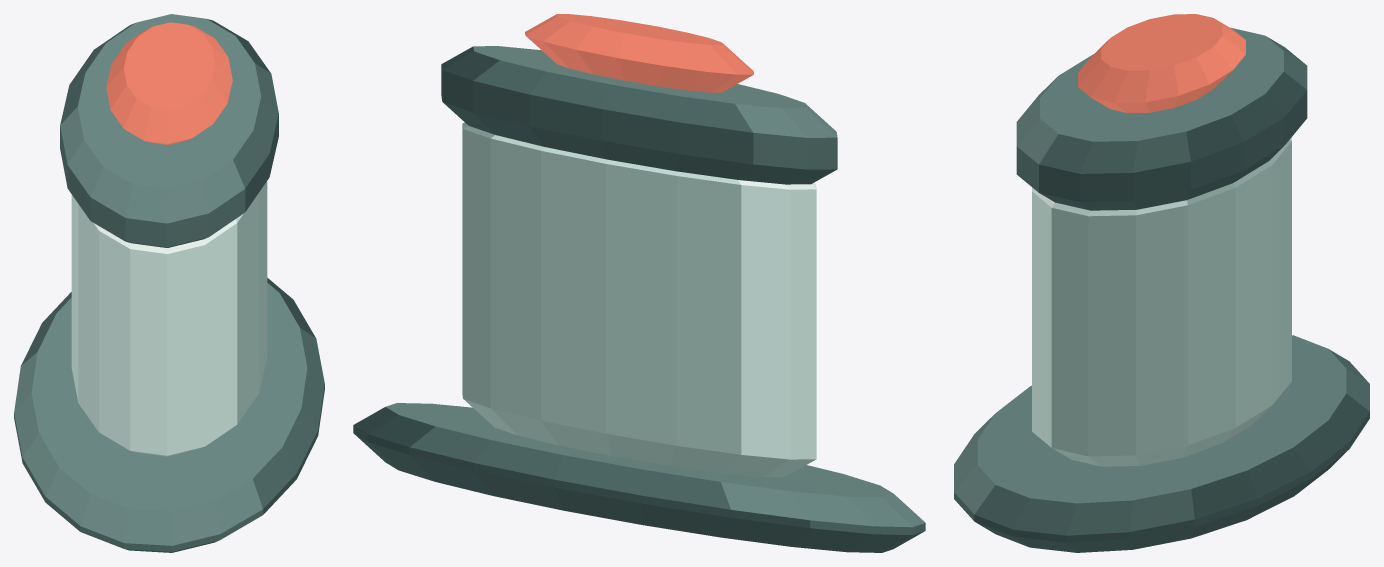
The model's file is Laser_Up.gltf.
The picture shows the model from 3 angles, left to right: view 1: azimuth 30°, elevation 25°; view 2: azimuth 150°, elevation 25°; view 3: azimuth 270°, elevation 25°; orthographic projection. The views are drawn at different scales.
Parts seen in each view (by area): view 1: Laser_Up_baked; view 2: Laser_Up_baked; view 3: Laser_Up_baked.
Boxes of the visible parts, x1=… form: Laser_Up_baked: x1=14, y1=14, x2=324, y2=552; Laser_Up_baked: x1=353, y1=14, x2=925, y2=552; Laser_Up_baked: x1=954, y1=14, x2=1369, y2=552.
Bounding box in the file's own units: 0.5792 × 0.7258 × 0.5334.
